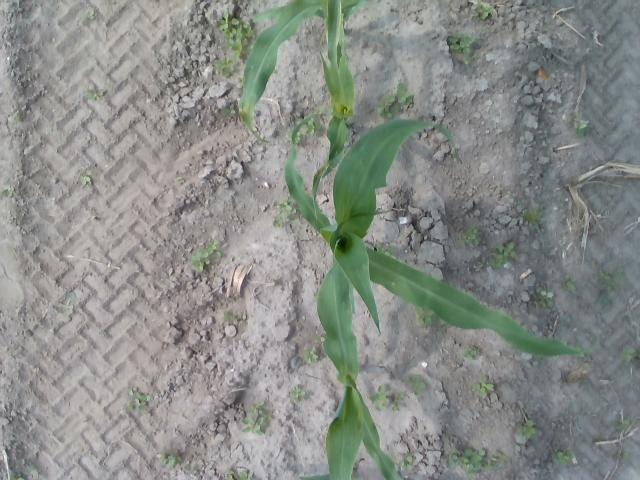Maize: (286, 114, 584, 358), (318, 241, 407, 480), (239, 0, 365, 144), (312, 0, 356, 221), (301, 467, 360, 480)
Weeds: (375, 83, 413, 118), (452, 446, 485, 476), (242, 403, 269, 432), (124, 390, 151, 414), (219, 13, 240, 36), (514, 418, 536, 438), (372, 387, 389, 411), (451, 36, 474, 52), (474, 378, 494, 396), (214, 57, 232, 76), (472, 2, 490, 21), (540, 290, 556, 309), (497, 243, 518, 257), (490, 450, 508, 466), (408, 377, 426, 393), (490, 252, 510, 266), (192, 252, 210, 267), (208, 241, 222, 260), (524, 208, 540, 224), (418, 310, 433, 326), (463, 230, 480, 244), (555, 450, 573, 463), (230, 36, 243, 52), (398, 456, 414, 469), (240, 26, 257, 38), (86, 92, 106, 102), (578, 118, 590, 134), (624, 346, 636, 362), (462, 348, 478, 360), (292, 385, 306, 398), (304, 350, 318, 362), (156, 452, 170, 464), (598, 274, 612, 286), (277, 201, 292, 212), (222, 310, 235, 322), (170, 456, 184, 467), (614, 267, 624, 282), (618, 418, 630, 430), (394, 394, 404, 408), (566, 283, 578, 292), (80, 176, 90, 186), (68, 292, 78, 302), (4, 185, 15, 194), (272, 221, 284, 228), (227, 106, 236, 114)
